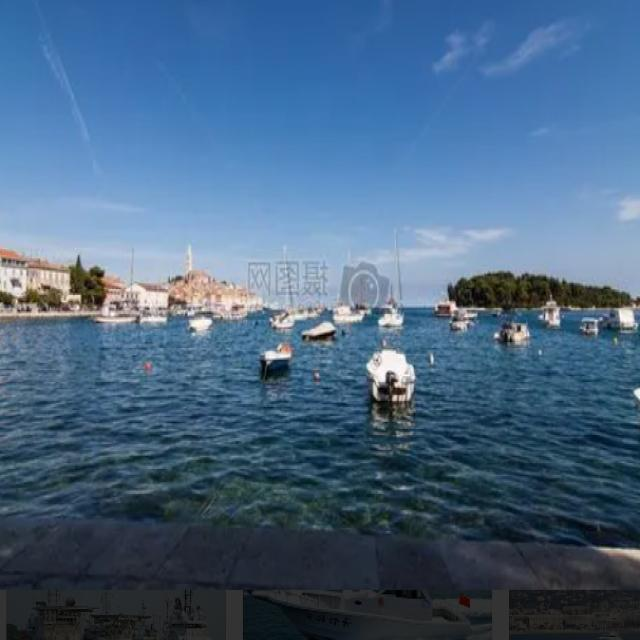houseboat: (366, 346, 418, 405), (90, 300, 140, 330), (375, 288, 405, 332), (433, 294, 474, 321), (333, 297, 368, 327), (259, 342, 294, 372), (608, 302, 638, 333), (185, 306, 216, 336), (496, 319, 530, 346), (304, 317, 336, 345), (540, 296, 566, 330), (283, 299, 321, 322), (268, 310, 296, 335), (451, 309, 473, 336), (580, 314, 602, 336)
